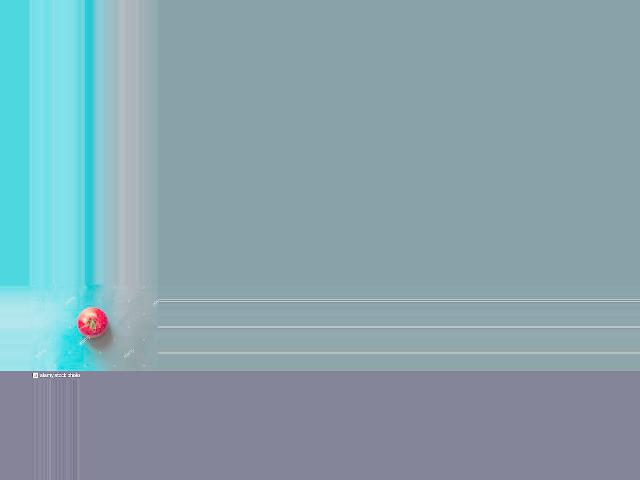tomato: (77, 307, 108, 338)
